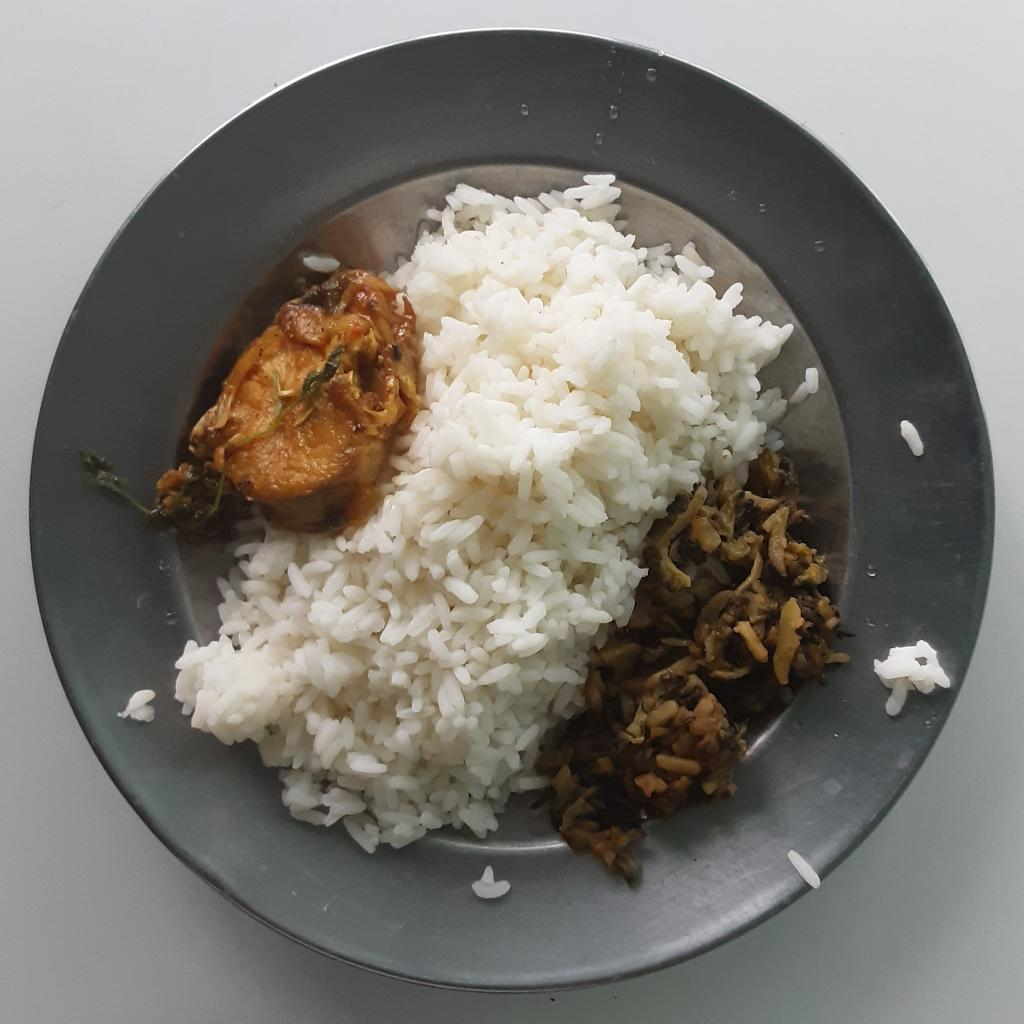fish: (87, 267, 425, 542)
korola-vaji: (527, 445, 847, 900)
potato: (646, 480, 734, 593)
rice: (174, 168, 831, 853)
